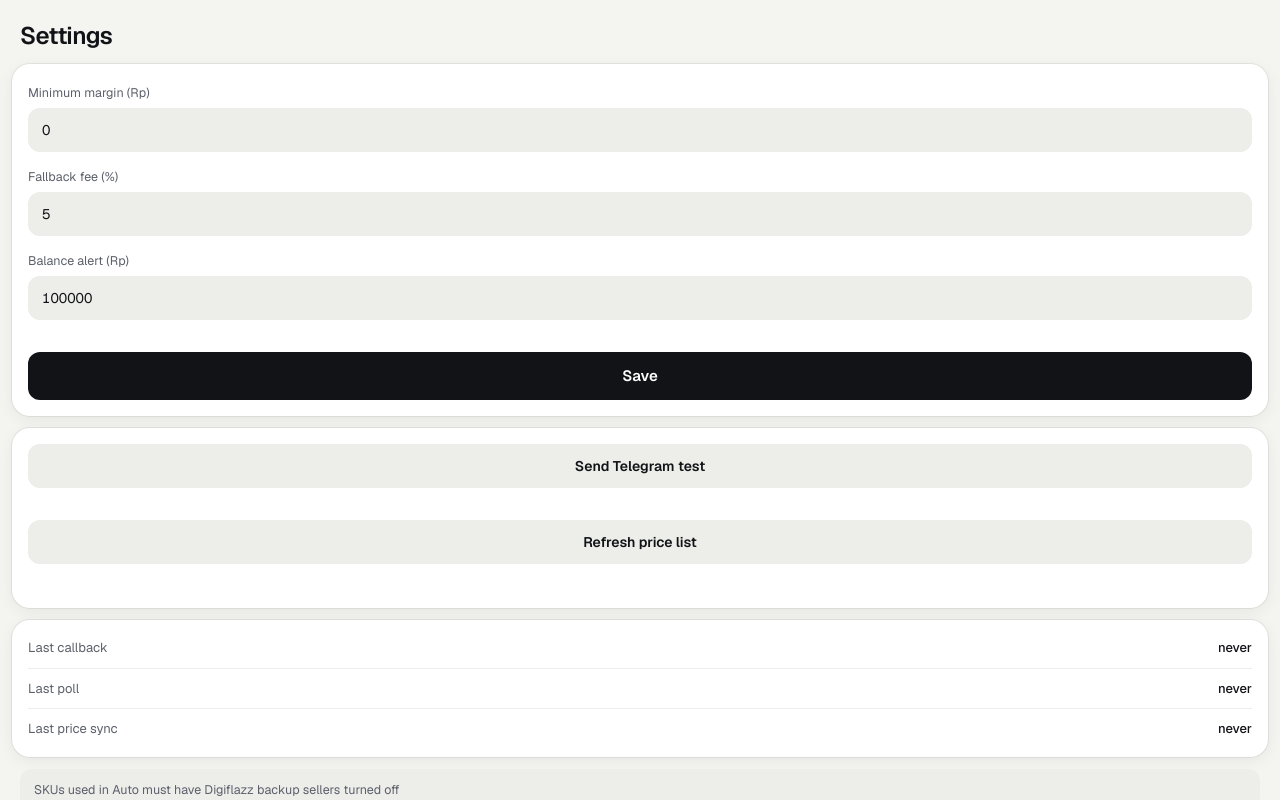
Scenario: Settings › blankFieldShowsErrorWithoutSaving
The width and height of the screenshot is (1280, 800).
Clear the number field labelled "Balance alert (Rp)" at (640, 298), box [28,276,1252,320]
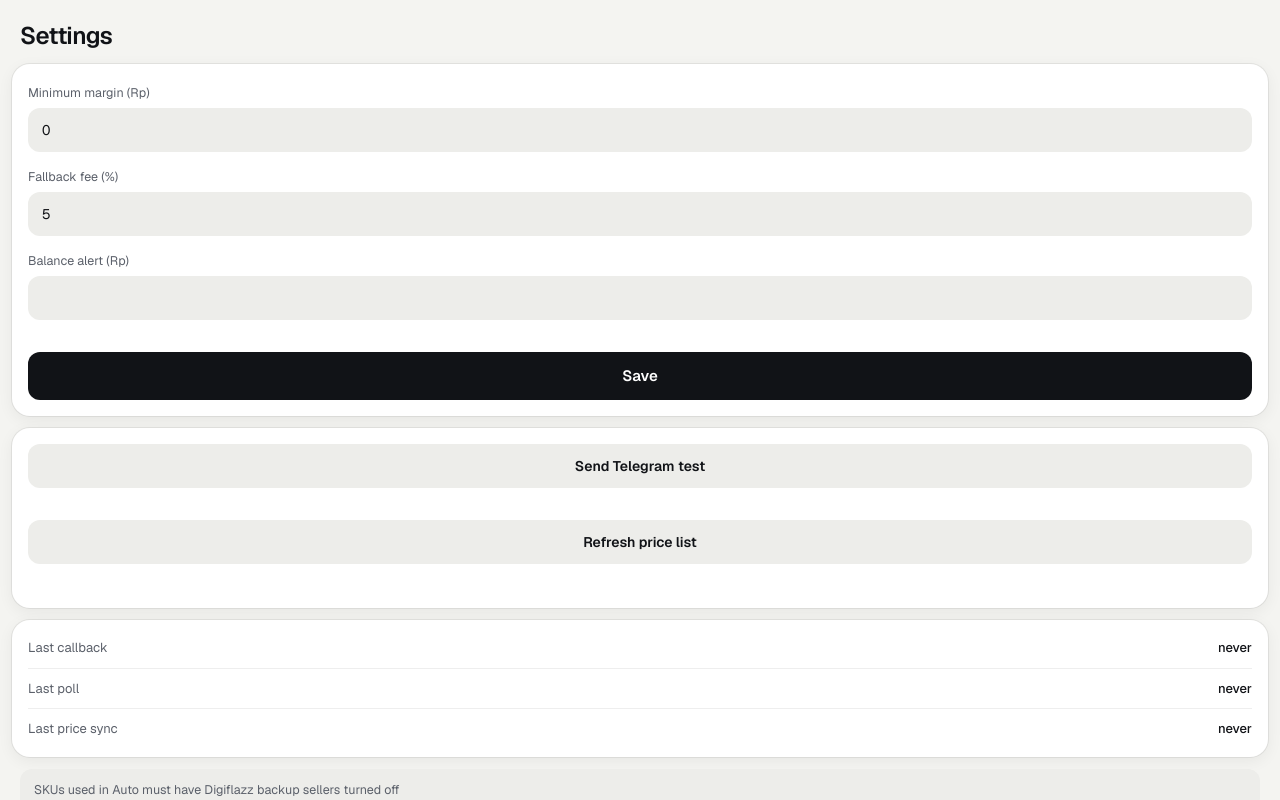
Click the button "Save" at (640, 376), box [28,352,1252,400]
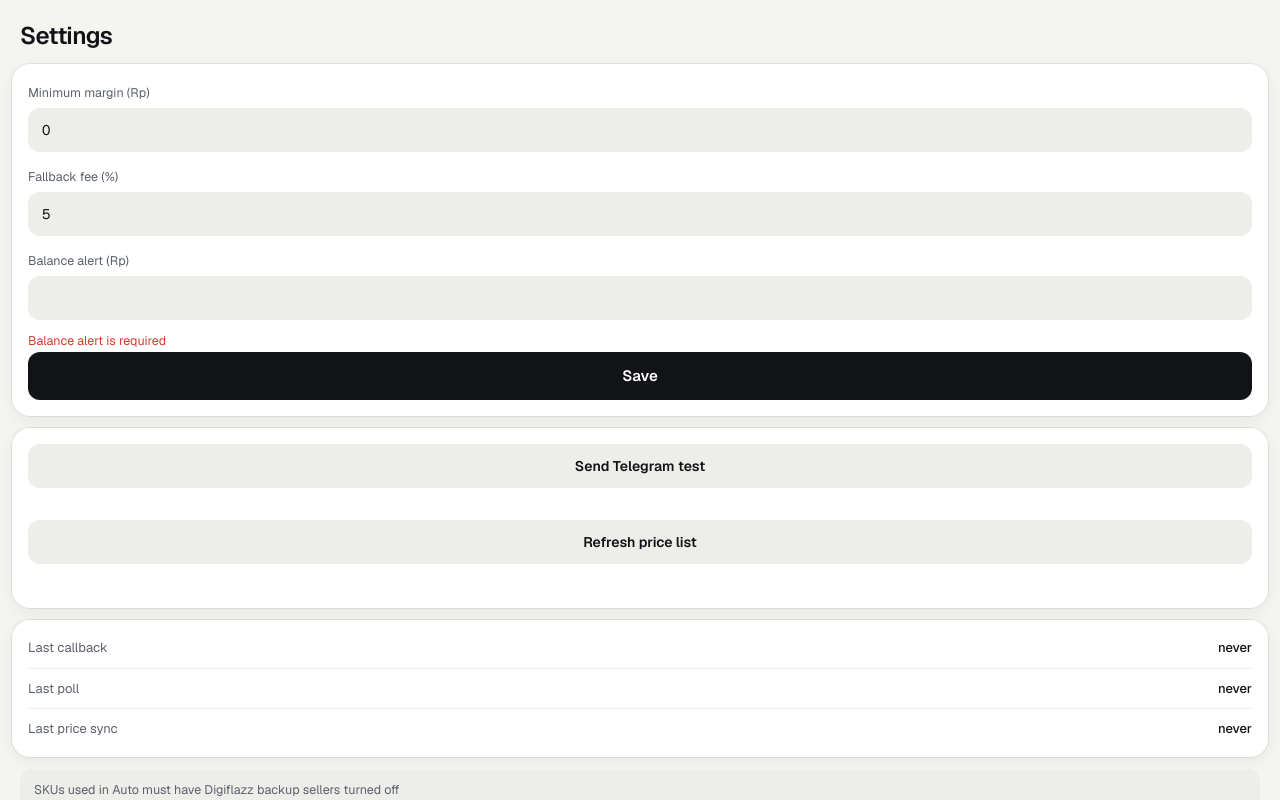
Expected: the text "Balance alert is required" is shown, [28,332,166,349]
